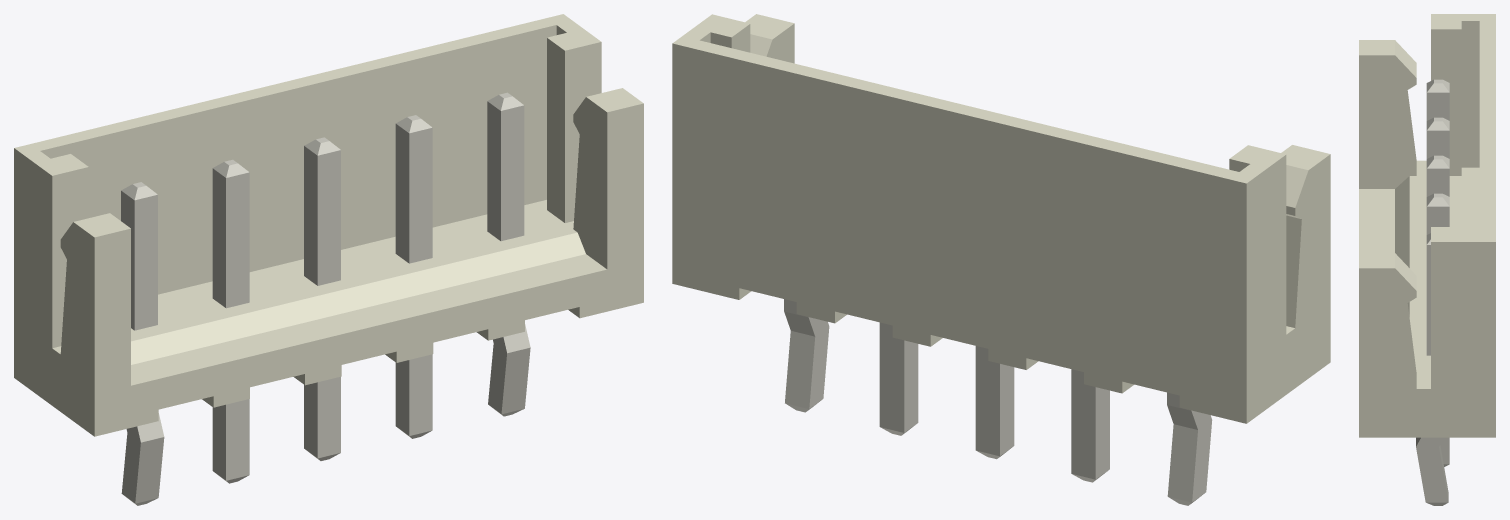
Rendered from kc-jst_eh_b5b-eh-a_1x05_p2.50mm_vertical.glb.
The picture shows the model from 3 angles, left to right: view 1: azimuth 30°, elevation 25°; view 2: azimuth 150°, elevation 25°; view 3: azimuth 270°, elevation 25°; orthographic projection. The views are drawn at different scales.
Parts seen in each view (by area): view 1: 0.75_0.75_0.5833333333333334_0, 0.6666666666666666_0.6666666666666666_0.5833333333333334_0.8; view 2: 0.75_0.75_0.5833333333333334_0, 0.6666666666666666_0.6666666666666666_0.5833333333333334_0.8; view 3: 0.75_0.75_0.5833333333333334_0, 0.6666666666666666_0.6666666666666666_0.5833333333333334_0.8.
Part boxes in pixels (x1,y1,x2,y2): 0.75_0.75_0.5833333333333334_0: (14,14,643,436); 0.6666666666666666_0.6666666666666666_0.5833333333333334_0.8: (121,92,530,505); 0.75_0.75_0.5833333333333334_0: (672,14,1330,423); 0.6666666666666666_0.6666666666666666_0.5833333333333334_0.8: (784,299,1212,505); 0.75_0.75_0.5833333333333334_0: (1359,14,1495,437); 0.6666666666666666_0.6666666666666666_0.5833333333333334_0.8: (1416,79,1449,505).
Bounding box in the file's own units: 1.5 × 0.92 × 0.38.
